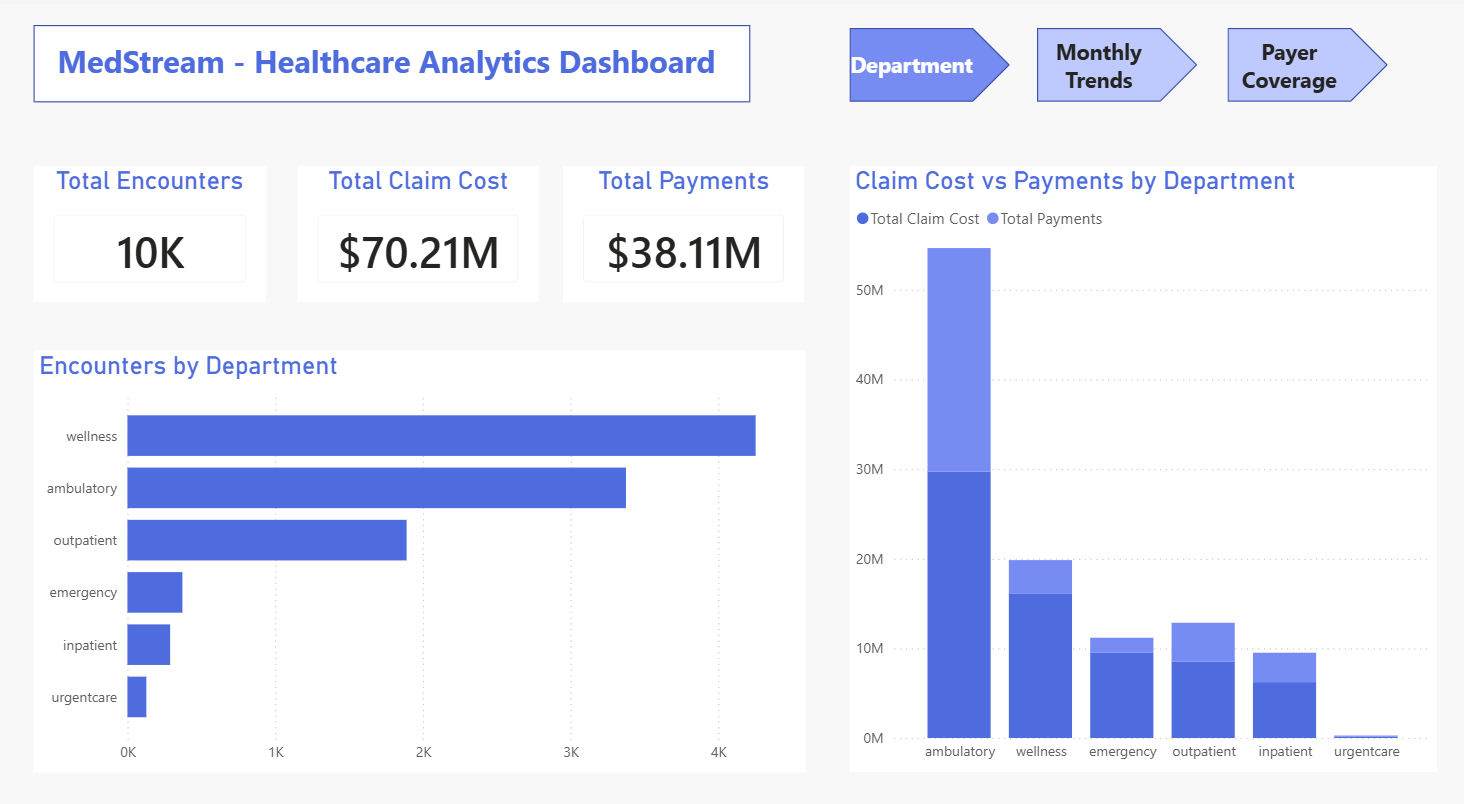

The page's visual inventory and layout, read from the dashboard file:
{"tool":"powerbi","page":{"name":"Department Analytics","canvas":[1280,720],"ordinal":0},"visuals":[{"type":"cardVisual","title":"Total Encounters","fields":{"Data":["Sum(encounters_by_department.encounter_count)"]},"box":[31.9,140.4,201,118.1],"z":0},{"type":"clusteredBarChart","title":"Encounters by Department","fields":{"Category":["encounters_by_department.department"],"Y":["Sum(encounters_by_department.encounter_count)"]},"box":[31.9,299.9,668.5,365.3],"z":1000},{"type":"columnChart","title":"Claim Cost vs Payments by Department","fields":{"Category":["encounters_by_department.department"],"Y":["encounters_by_department.Total Claim Cost","encounters_by_department.Total Payments"]},"box":[738.7,140.4,508.9,524.9],"z":2000},{"type":"cardVisual","title":"Total Claim Cost","fields":{"Data":["Sum(encounters_by_department.total_claim_cost)"]},"box":[261.6,140.4,209,118.1],"z":3000},{"type":"cardVisual","title":"Total Payments","fields":{"Data":["Sum(encounters_by_department.total_payments)"]},"box":[491.4,140.4,209,118.1],"z":4000},{"type":"shape","box":[738.7,20.7,138.8,63.8],"z":5000},{"type":"shape","box":[901.4,20.7,138.8,63.8],"z":6000},{"type":"shape","box":[1065.7,20.7,138.8,63.8],"z":7000},{"type":"shape","box":[31.9,17.5,620.6,67],"z":8000},{"type":"textbox","box":[47.9,25.5,591.9,49.5],"z":9000}]}

Visuals, with their boxes in screenshot pixels (x1, y1, x2, y2), scaled from the page's 1280x720 canvas onto the 1464x804 screenshot:
"Total Encounters" cardVisual: 36:157:266:289
"Encounters by Department" clusteredBarChart: 36:335:801:743
"Claim Cost vs Payments by Department" columnChart: 845:157:1427:743
"Total Claim Cost" cardVisual: 299:157:538:289
"Total Payments" cardVisual: 562:157:801:289
shape: 845:23:1004:94
shape: 1031:23:1190:94
shape: 1219:23:1378:94
shape: 36:20:746:94
textbox: 55:28:732:84
